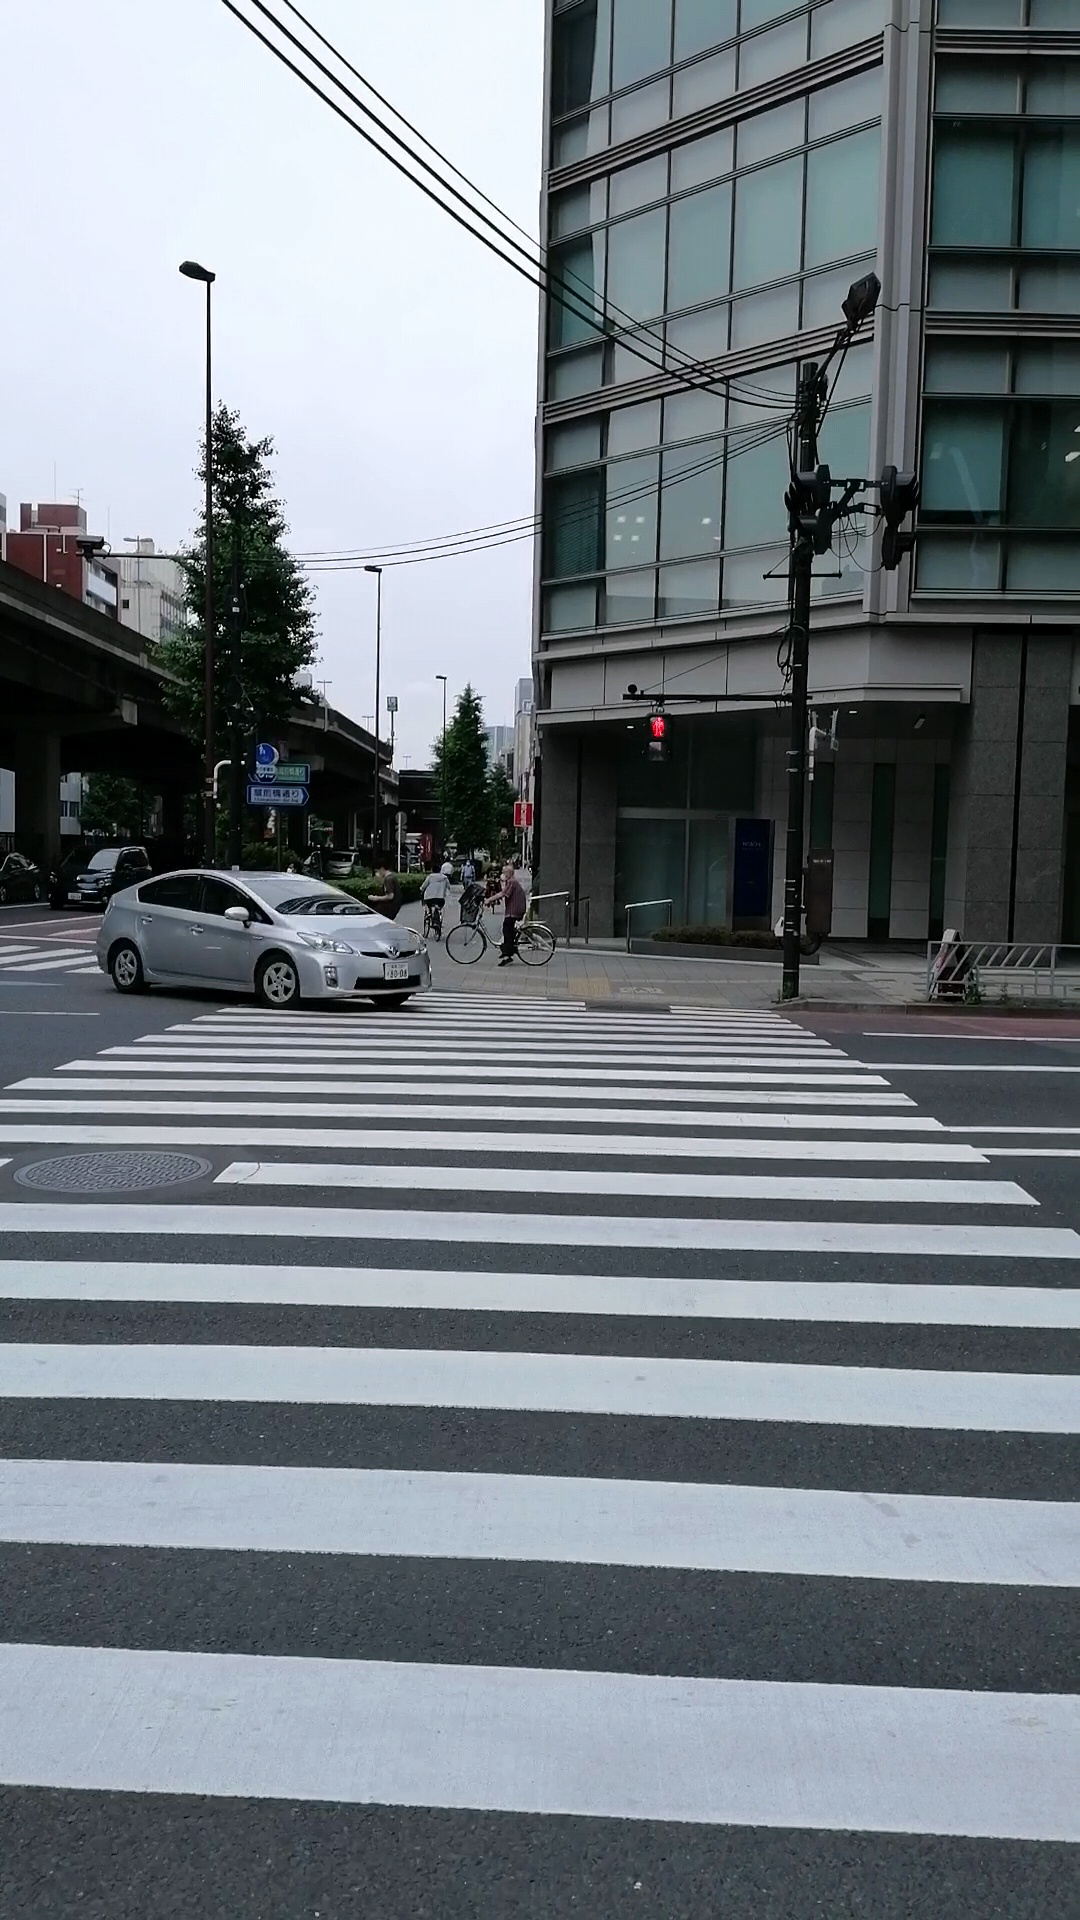red: (642, 711, 673, 766)
